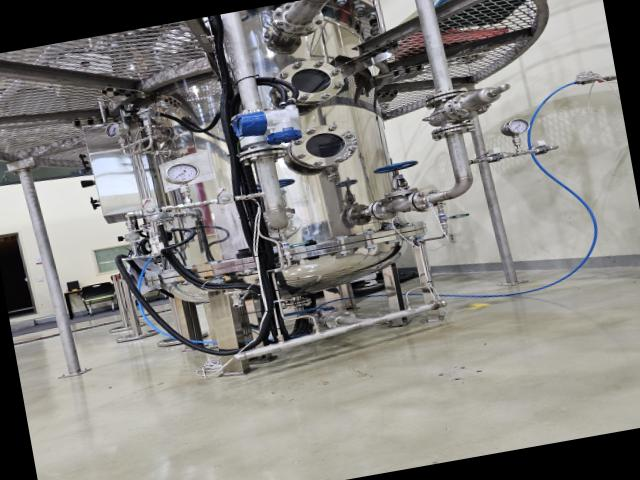Flange: (268, 54, 350, 112), (284, 118, 359, 174)
Flush Ring: (267, 0, 331, 41), (253, 207, 307, 244), (230, 139, 294, 166), (318, 304, 365, 332), (420, 85, 476, 108), (405, 183, 444, 213), (426, 119, 479, 140), (364, 196, 392, 222)
GasRegulator: (97, 98, 190, 167)
Nuts: (516, 140, 556, 158), (209, 190, 244, 208), (136, 202, 170, 218), (480, 148, 512, 162)
Piston Valve: (372, 150, 428, 196), (250, 174, 300, 193)
Pressure Gage: (160, 158, 205, 206), (499, 114, 535, 153)
